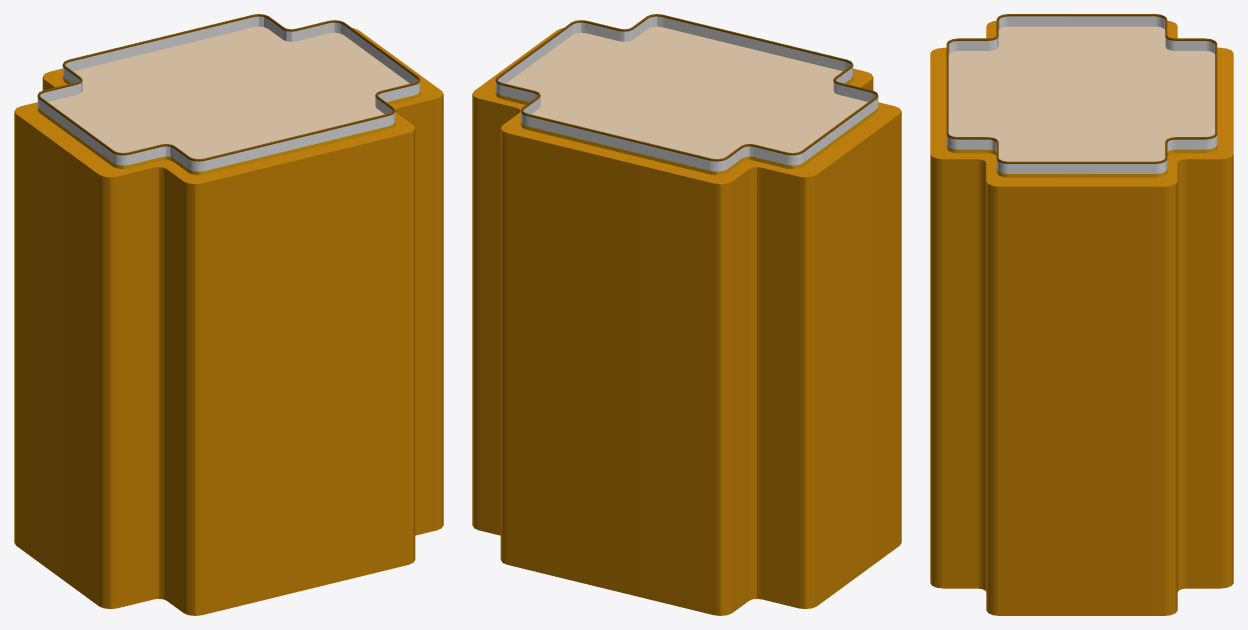
3 renders of one model, left to right at view 1: azimuth 30°, elevation 25°; view 2: azimuth 150°, elevation 25°; view 3: azimuth 270°, elevation 25°, orthographic.
Parts seen in each view (by area): view 1: base23, base11, polySurface1192, polySurface1191, polySurface685; view 2: base23, base11, polySurface1192, polySurface1191, polySurface685; view 3: base23, base11, polySurface1192, polySurface1191, polySurface685.
Part boxes in pixels (box(x1,y1,x2,y2)): base23: box(14, 28, 443, 615); base11: box(37, 26, 420, 175); polySurface1192: box(37, 61, 206, 171); polySurface1191: box(251, 16, 420, 126); polySurface685: box(37, 14, 420, 161); base23: box(472, 28, 901, 615); base11: box(495, 26, 878, 175); polySurface1192: box(709, 61, 878, 171); polySurface1191: box(495, 16, 664, 126); polySurface685: box(495, 14, 878, 161); base23: box(930, 20, 1233, 615); base11: box(946, 26, 1217, 177); polySurface1192: box(948, 16, 1215, 54); polySurface1191: box(946, 135, 1217, 173); polySurface685: box(946, 14, 1217, 163).
Size of the model in its own units: 92.6 by 115 by 71.4.
